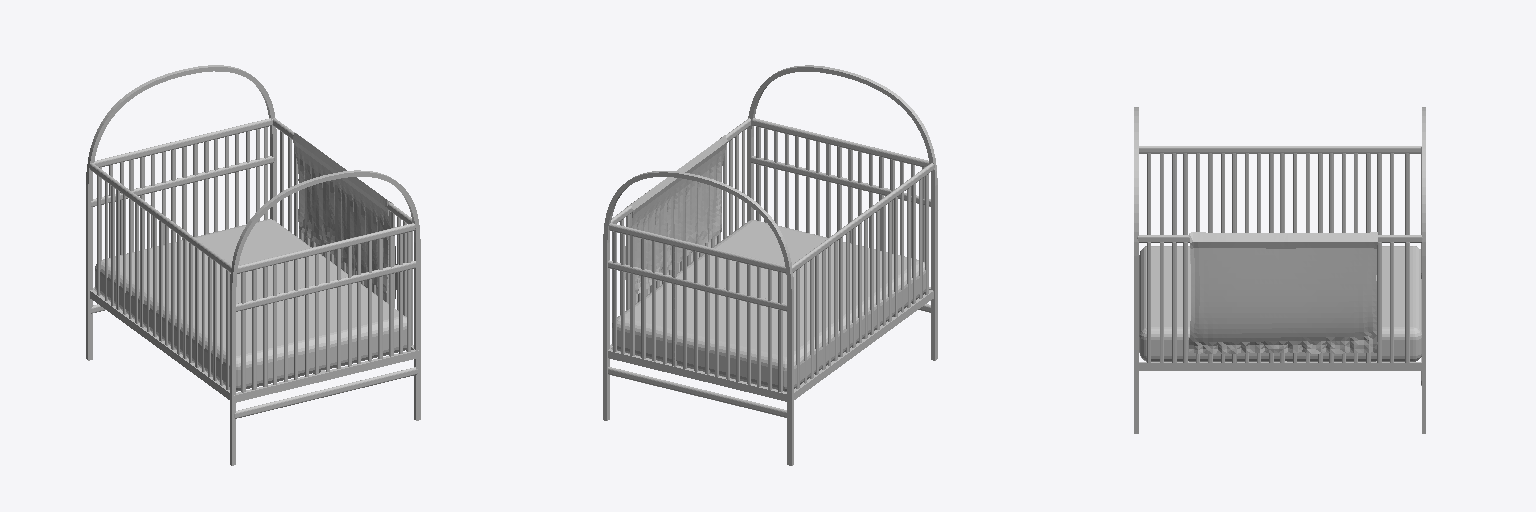
Rendered from BabyCot.obj.
The picture shows the model from 3 angles: view 1: azimuth 30°, elevation 25°; view 2: azimuth 150°, elevation 25°; view 3: azimuth 270°, elevation 25°; orthographic projection.
Visible parts, largest first — view 1: Null_Crib_1, Null_Blanket; view 2: Null_Crib_1, Null_Blanket; view 3: Null_Crib_1, Null_Blanket.
Boxes of the visible parts, x1=… form: Null_Crib_1: x1=86, y1=65, x2=420, y2=465; Null_Blanket: x1=293, y1=133, x2=396, y2=300; Null_Crib_1: x1=603, y1=65, x2=937, y2=465; Null_Blanket: x1=625, y1=135, x2=727, y2=302; Null_Crib_1: x1=1134, y1=107, x2=1425, y2=433; Null_Blanket: x1=1189, y1=232, x2=1377, y2=353.
Bounding box in the file's own units: 22.29 × 29.25 × 29.2.